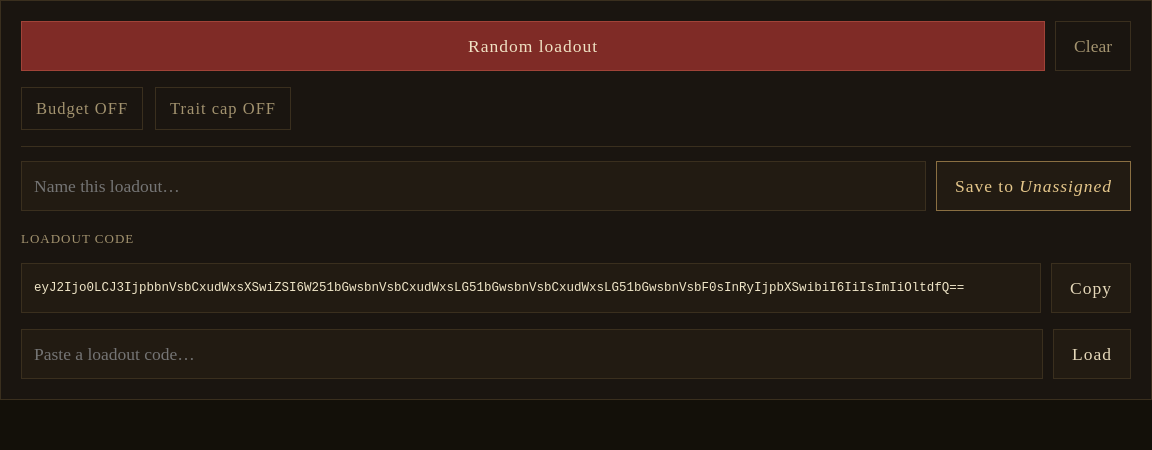
share code import field › leaves a failed paste visible, alongside the error explaining why
Type "not a real code" into the field named "Paste a loadout code to load it" at x=532, y=354, box [21,329,1043,379]
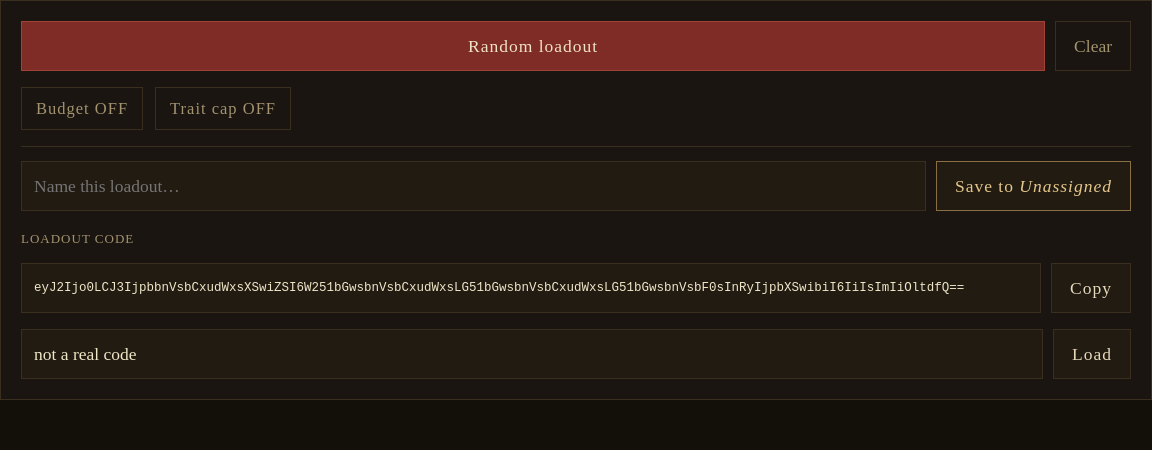
Click the button "Load" at x=1092, y=354, box [1053,329,1131,379]
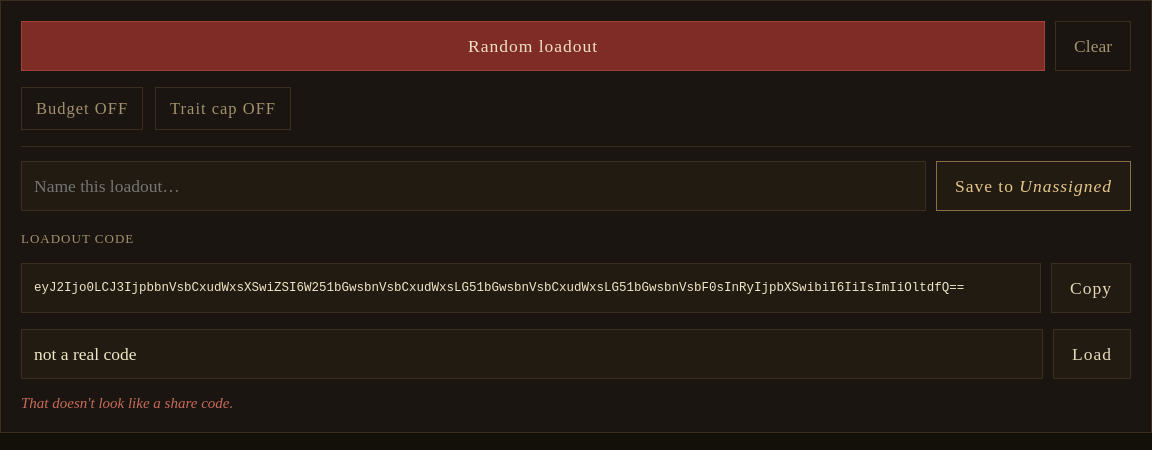
Result: the message reads "That doesn't look like a share code." at [21,395,233,411]
